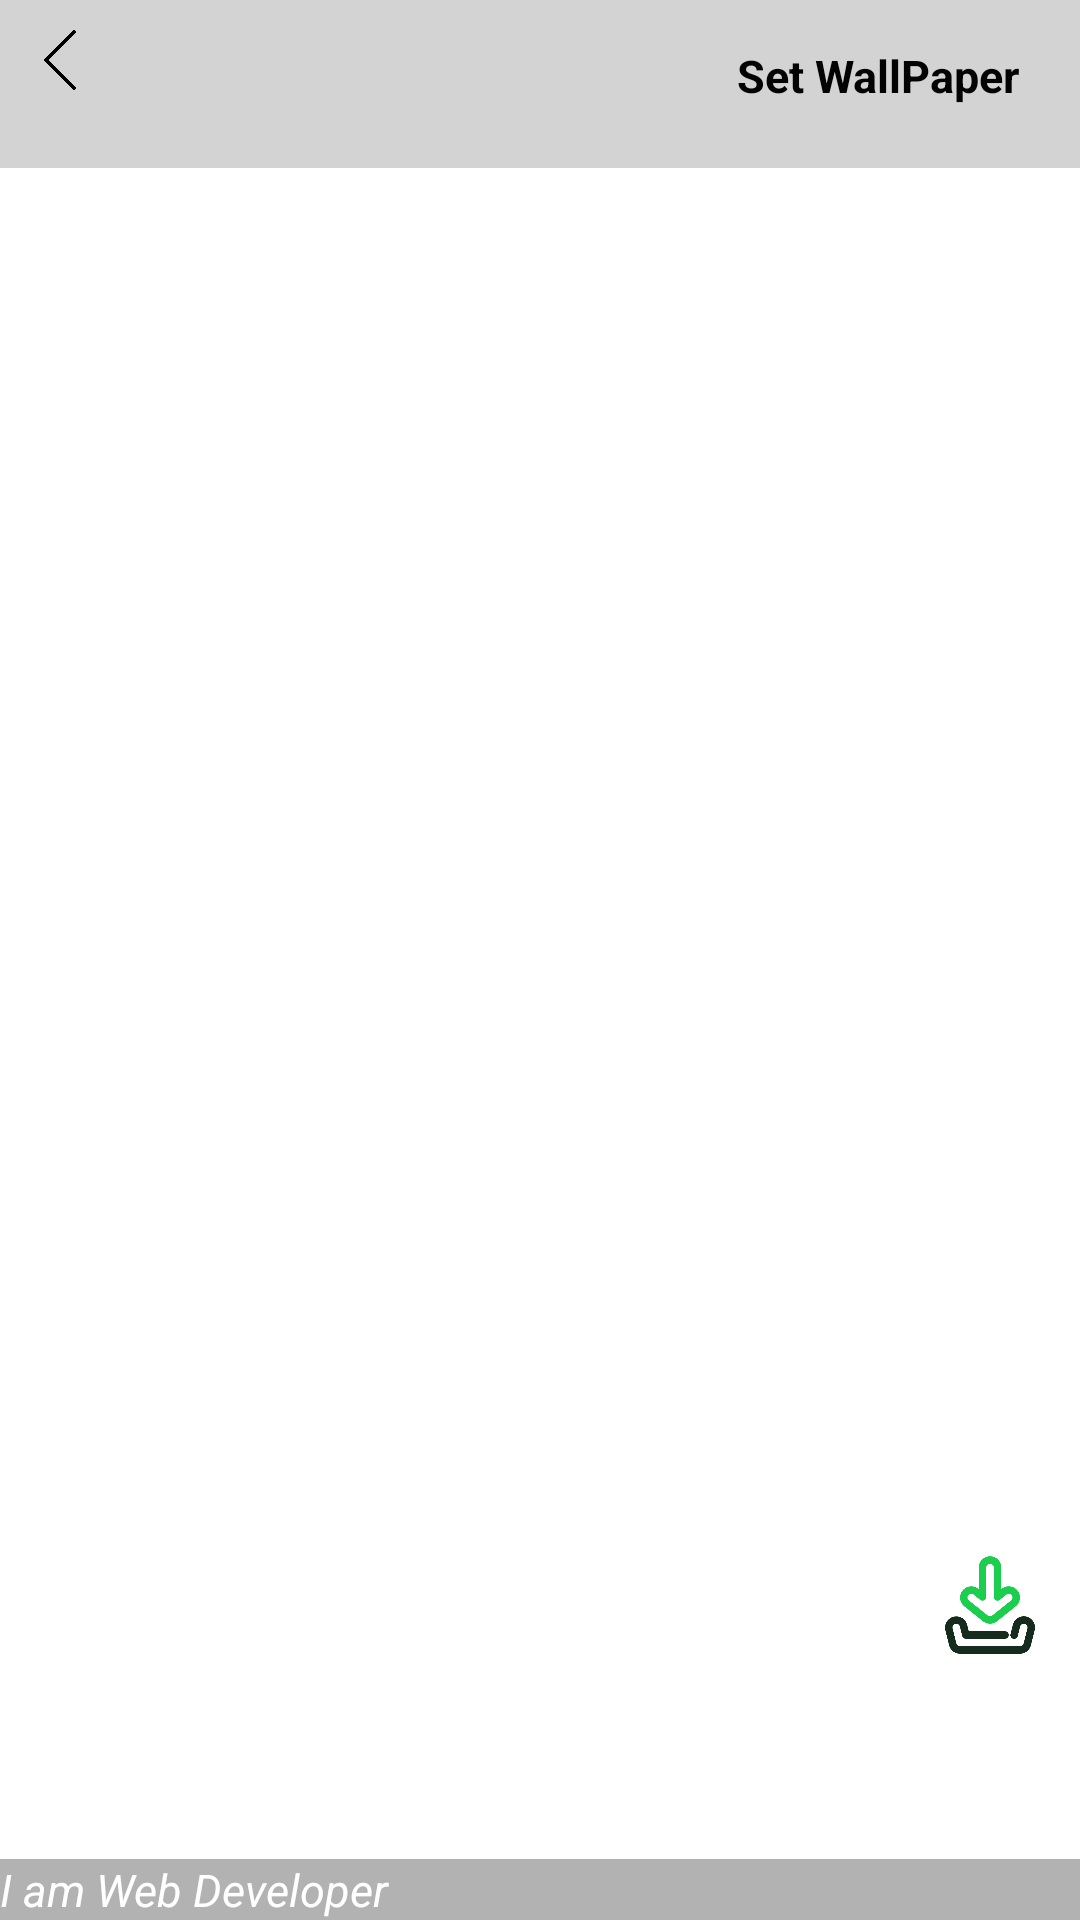

Icons on this 1080×1920 Android screen, each with the point to tap as point (x, y):
download: point (990, 1605)
leftarrow: point (60, 60)
